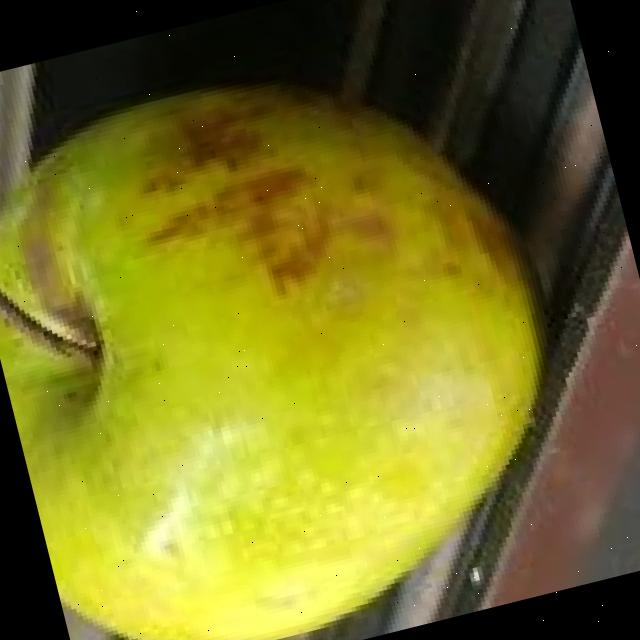Good_Apple 10-21 days: (0, 84, 539, 640)
